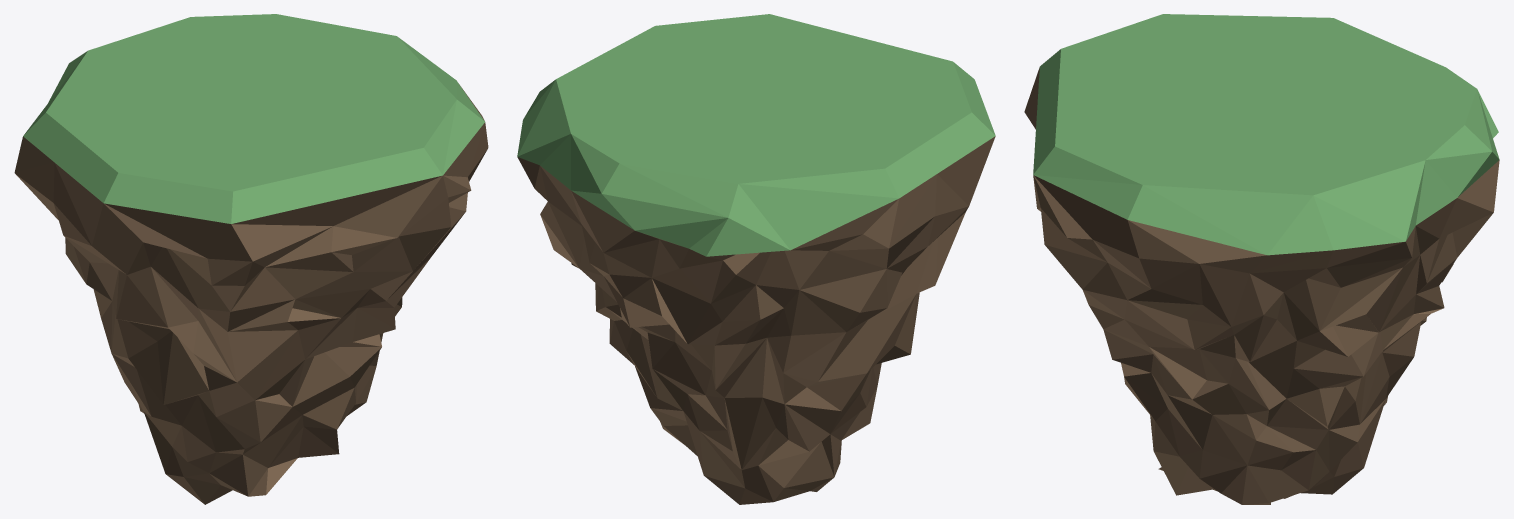
The model's file is island_middle.fbx.
The picture shows the model from 3 angles, left to right: view 1: azimuth 30°, elevation 25°; view 2: azimuth 150°, elevation 25°; view 3: azimuth 270°, elevation 25°; orthographic projection. The views are drawn at different scales.
Visible parts, largest first — view 1: island1:island01; view 2: island1:island01; view 3: island1:island01.
Boxes of the visible parts, box(x1,y1,x2,y2) form: island1:island01: box(14, 14, 488, 504); island1:island01: box(517, 14, 995, 504); island1:island01: box(1024, 14, 1499, 504).
Bounding box in the file's own units: 15.94 × 14.52 × 15.16.
